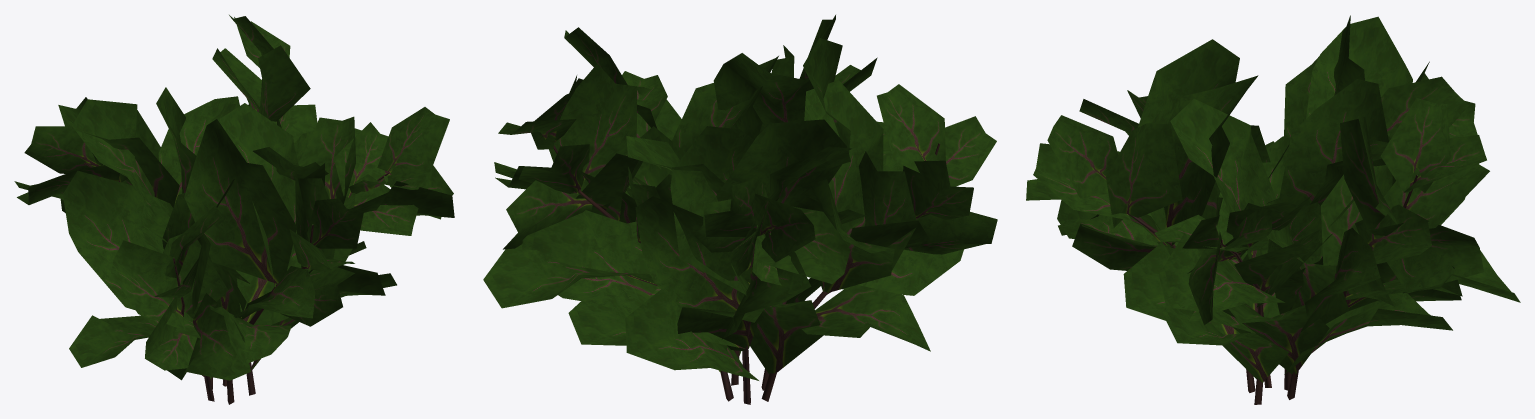
File: Bush_Dead02.fbx
The picture shows the model from 3 angles, left to right: view 1: azimuth 30°, elevation 25°; view 2: azimuth 150°, elevation 25°; view 3: azimuth 270°, elevation 25°; orthographic projection. The views are drawn at different scales.
Parts seen in each view (by area): view 1: BushDead_02.mo; view 2: BushDead_02.mo; view 3: BushDead_02.mo.
Part boxes in pixels (<box>): BushDead_02.mo: <box>14,15,454,404</box>; BushDead_02.mo: <box>483,15,997,404</box>; BushDead_02.mo: <box>1026,15,1520,404</box>.
Size of the model in its own units: 206 by 171 by 223.
